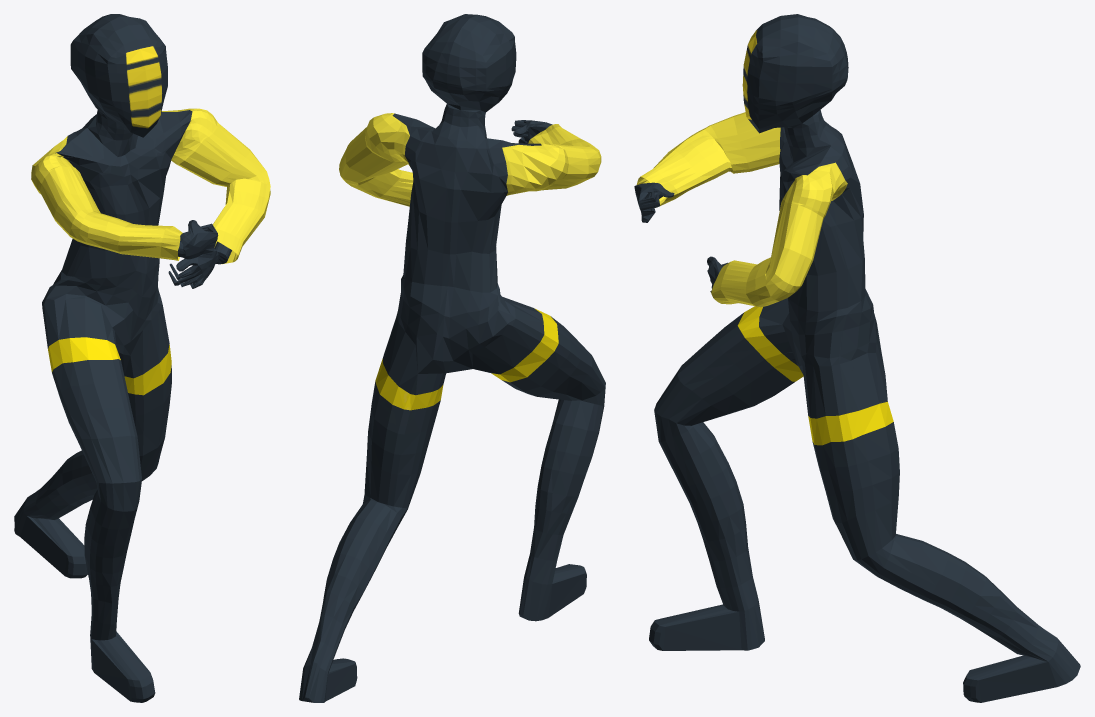
Rendered from Sentry_Hit_Stun_Recover_000003.obj.
The picture shows the model from 3 angles, left to right: view 1: azimuth 30°, elevation 25°; view 2: azimuth 150°, elevation 25°; view 3: azimuth 270°, elevation 25°; orthographic projection. The views are drawn at different scales.
Parts seen in each view (by area): view 1: Cube; view 2: Cube; view 3: Cube.
Boxes of the visible parts, x1,y1,x2,y2 form: Cube: (14, 14, 270, 702); Cube: (299, 14, 605, 702); Cube: (634, 14, 1080, 702).
Size of the model in its own units: 1.36 by 3.51 by 2.15.
